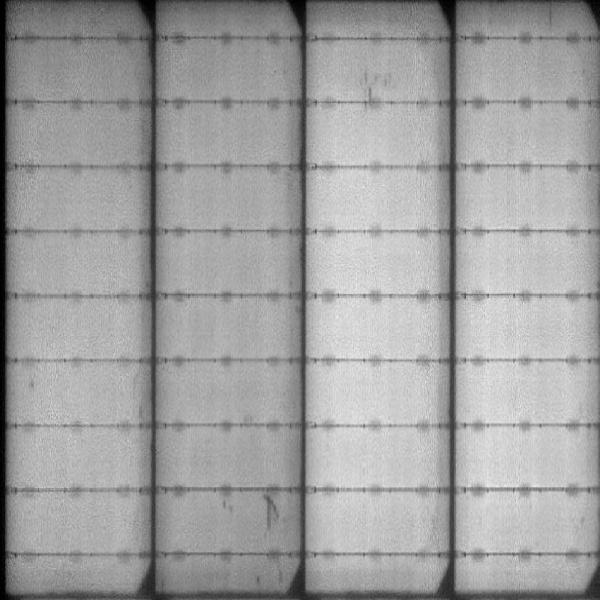scratch: (356, 65, 393, 104), (261, 497, 283, 536)
